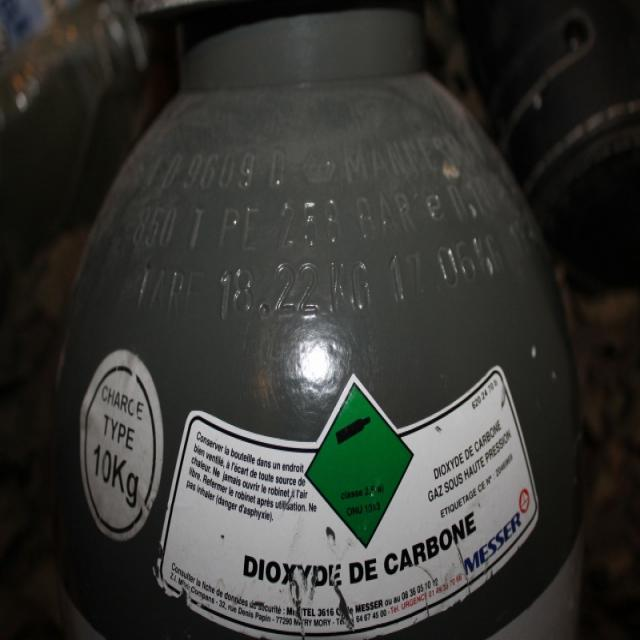ocr: (117, 120, 548, 327)
